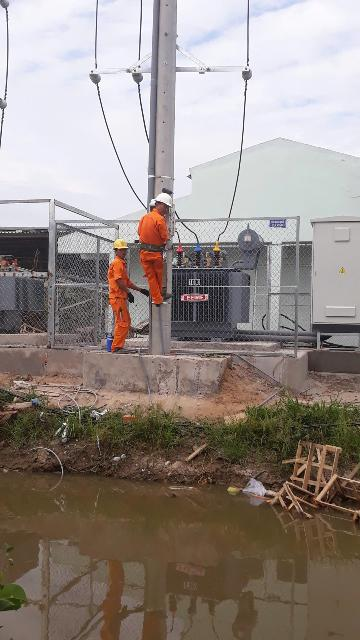gloves: (122, 292, 137, 308), (134, 284, 152, 294)
harness: (130, 239, 172, 252)
helmet: (152, 189, 180, 211), (103, 234, 133, 251)
shoes: (112, 345, 134, 359), (162, 291, 182, 303), (149, 301, 163, 312)
